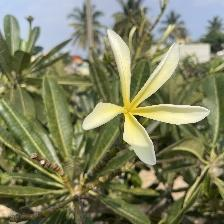champaka: (78, 27, 214, 170)
